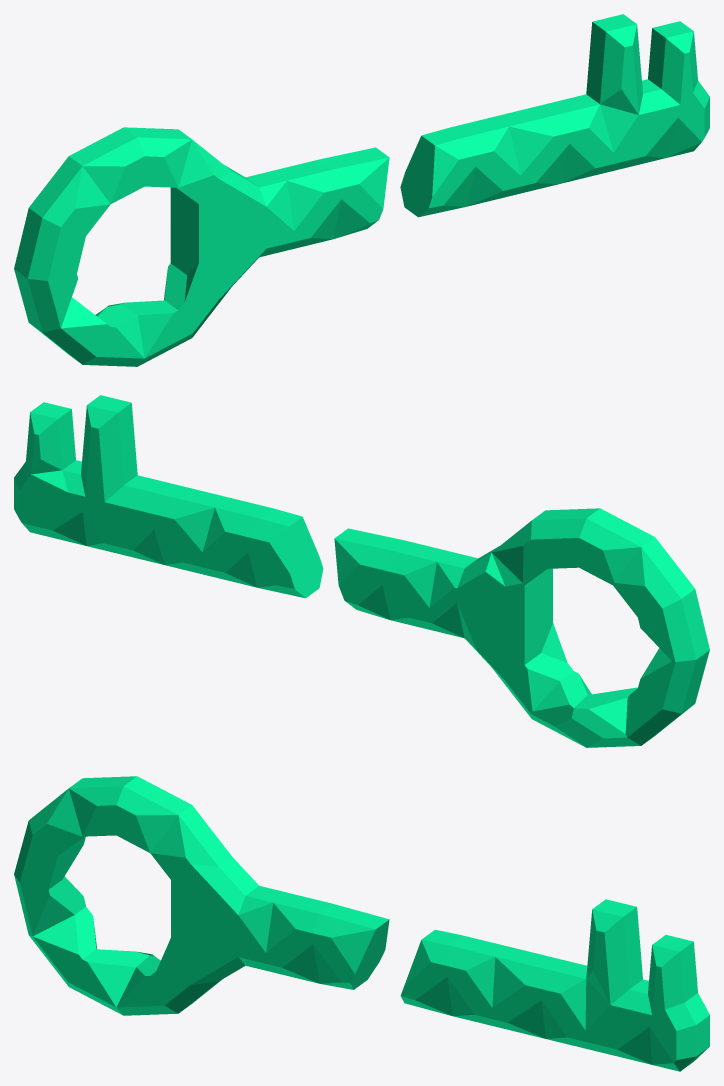
File: key_broken_green.glb
3 views of the same model, one above another, from view 1: azimuth 30°, elevation 25°; view 2: azimuth 150°, elevation 25°; view 3: azimuth 330°, elevation 25° (orthographic).
Parts seen in each view (by area): view 1: Circle.021; view 2: Circle.021; view 3: Circle.021.
Boxes of the visible parts, <box> form: Circle.021: <box>14,14,709,366</box>; Circle.021: <box>14,395,709,747</box>; Circle.021: <box>14,776,709,1071</box>.
Size of the model in its own units: 2.01 by 0.6454 by 0.183.
Materials: 1 (1 with a texture image).
